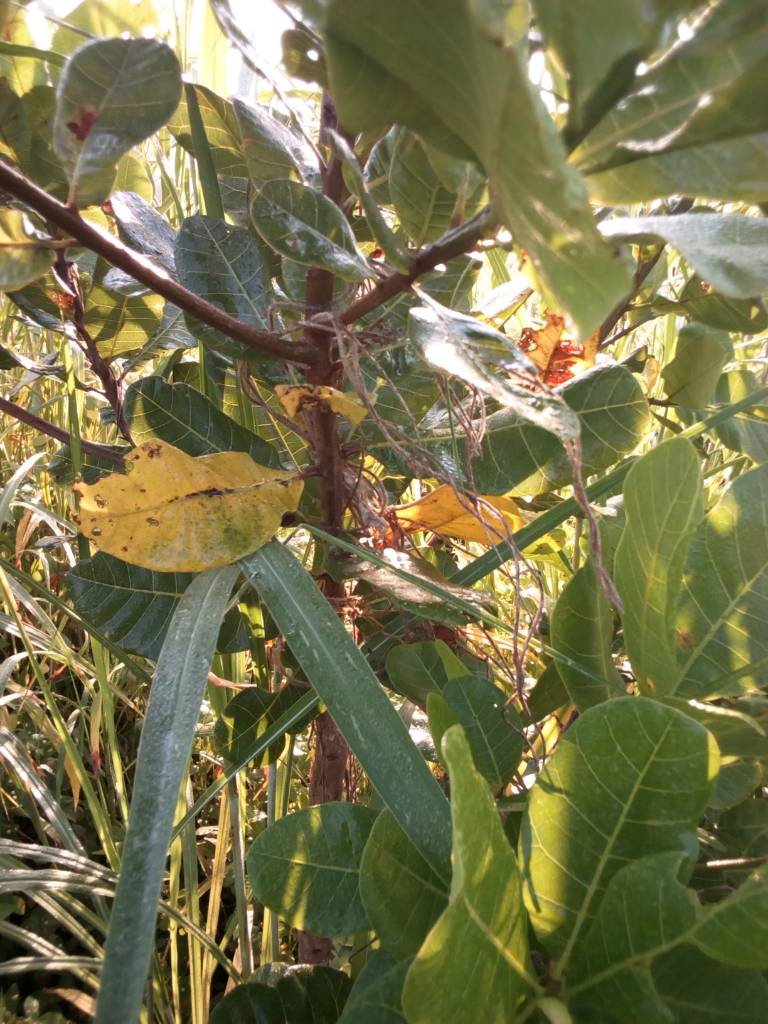Anthracnose: (80, 453, 310, 572)
